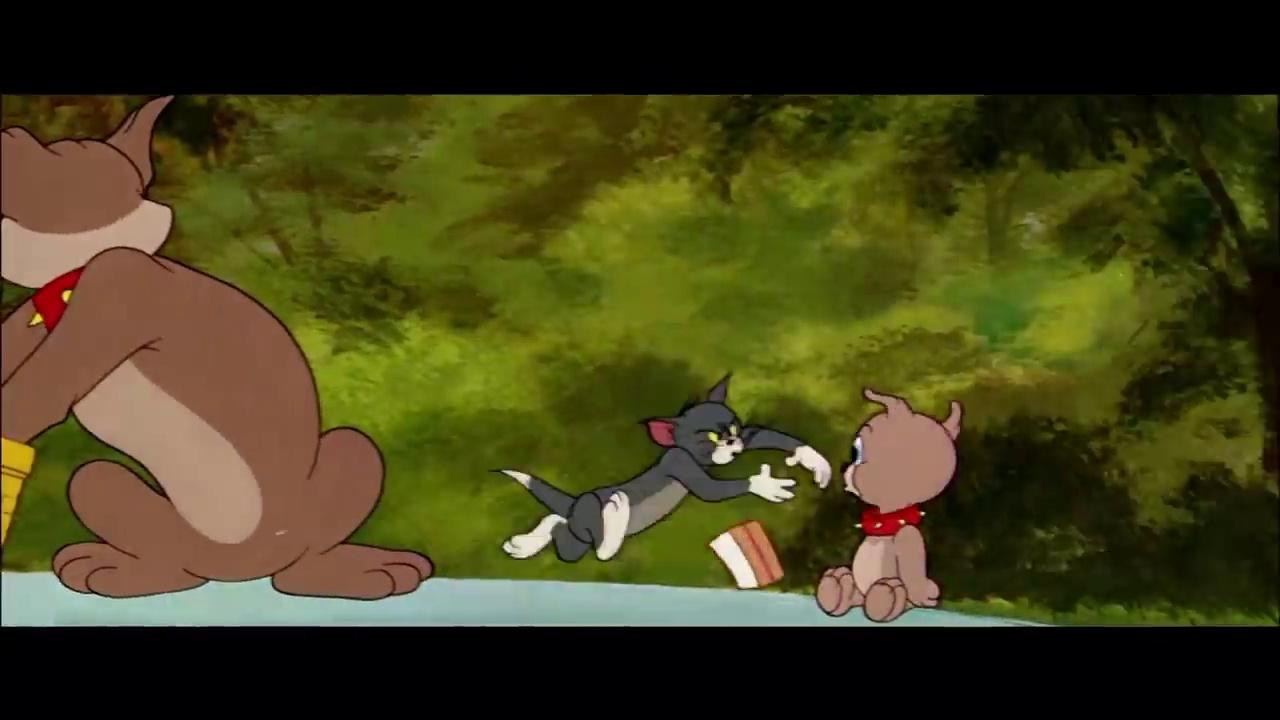Tom: (491, 369, 836, 564)
